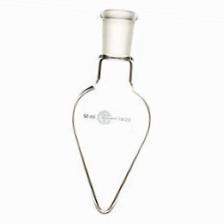Pear shaped flask: (55, 4, 159, 216)
